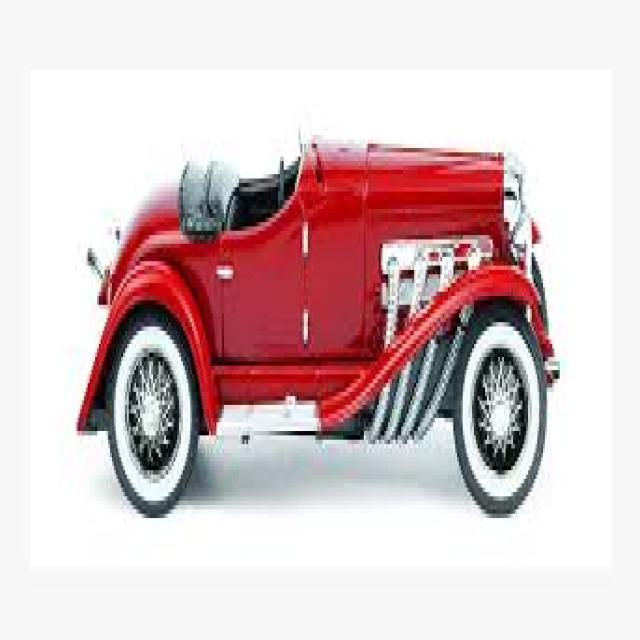Car: (74, 126, 560, 518)
